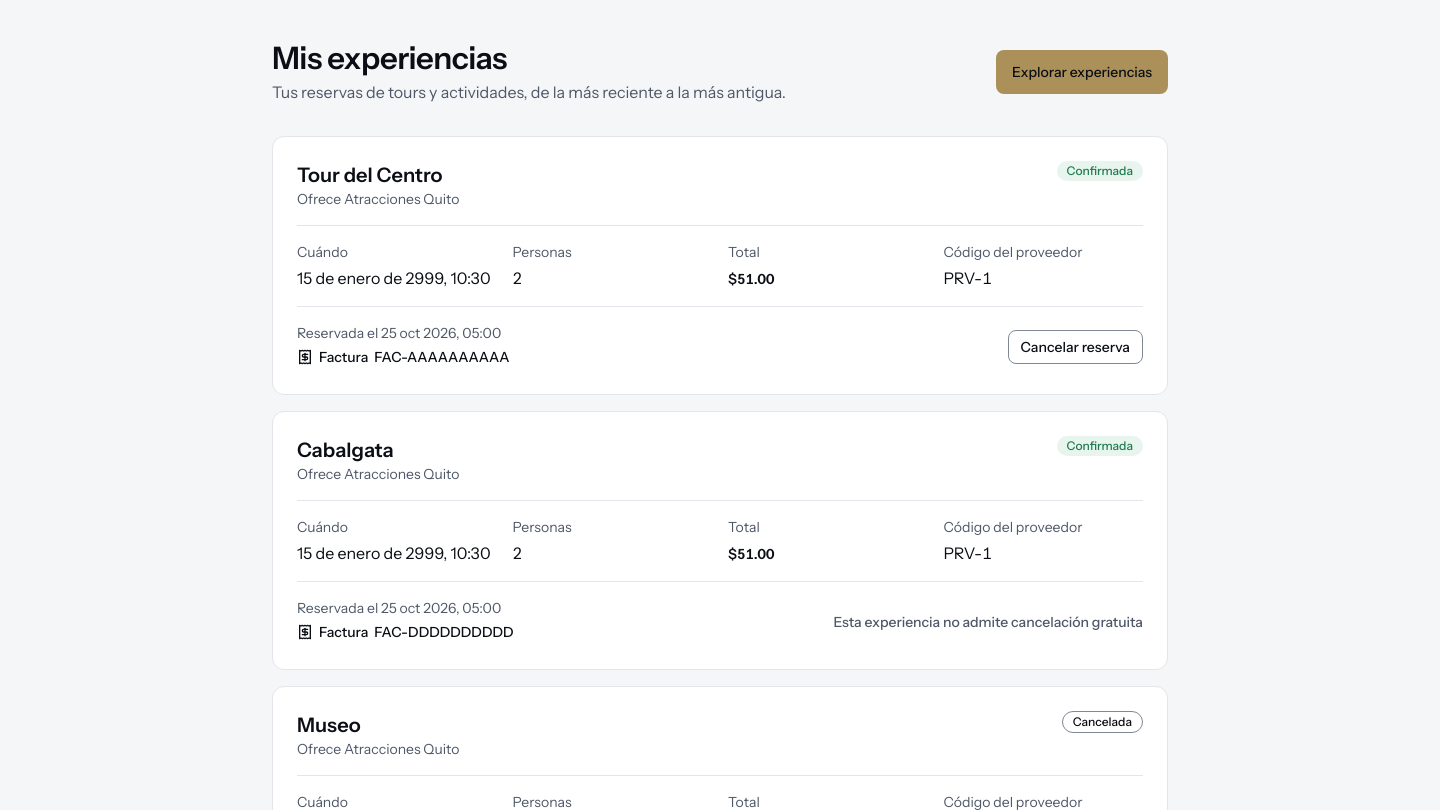
Test: MyExperiencesPage › explains EXTERNAL_RESERVATION_NOT_REFUNDABLE inside the dialog
Click the button with aria-label "Cancelar la reserva de Tour del Centro" at [1075, 346], box [1008,330,1143,364]
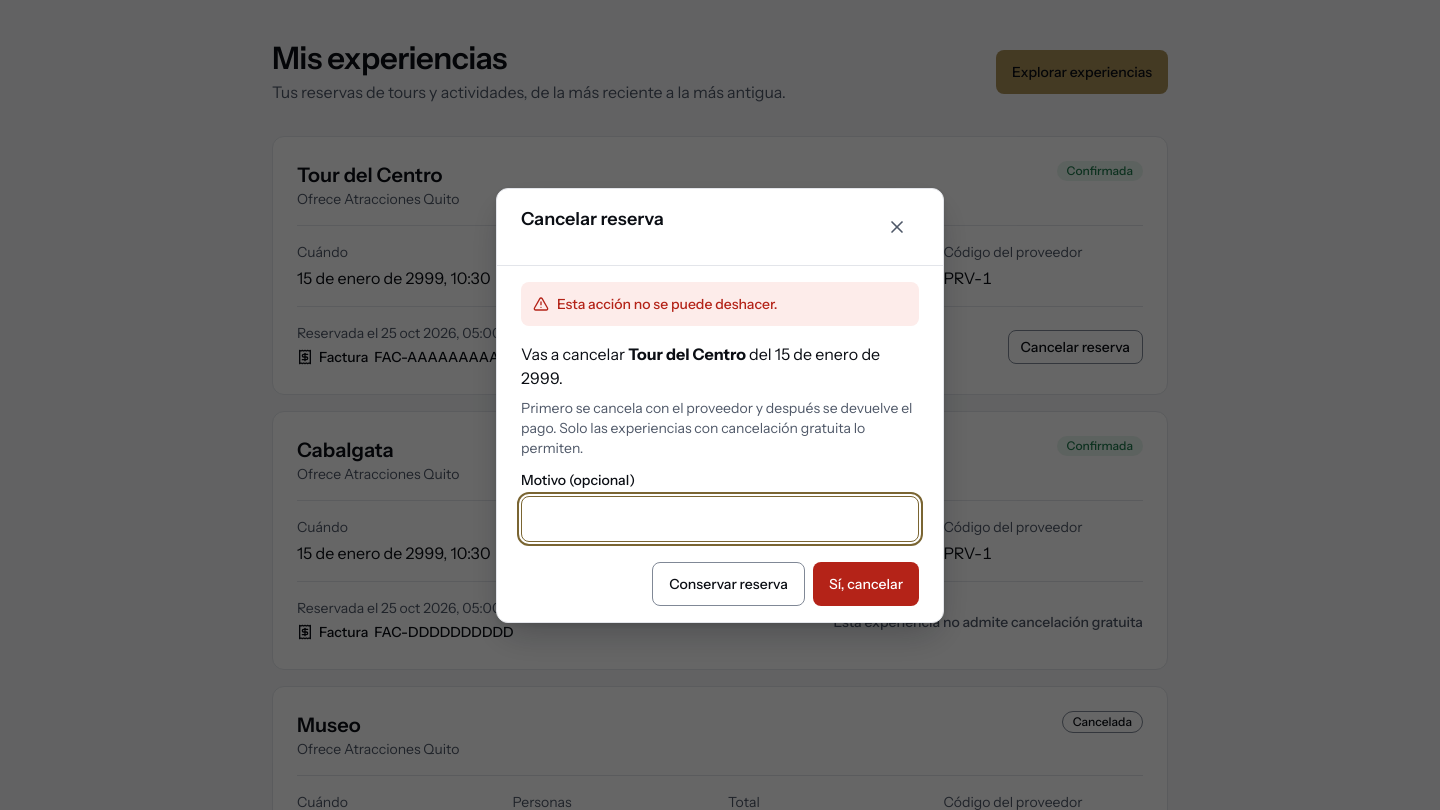
Click the button "Sí, cancelar" at [866, 584], box [813,562,919,606]
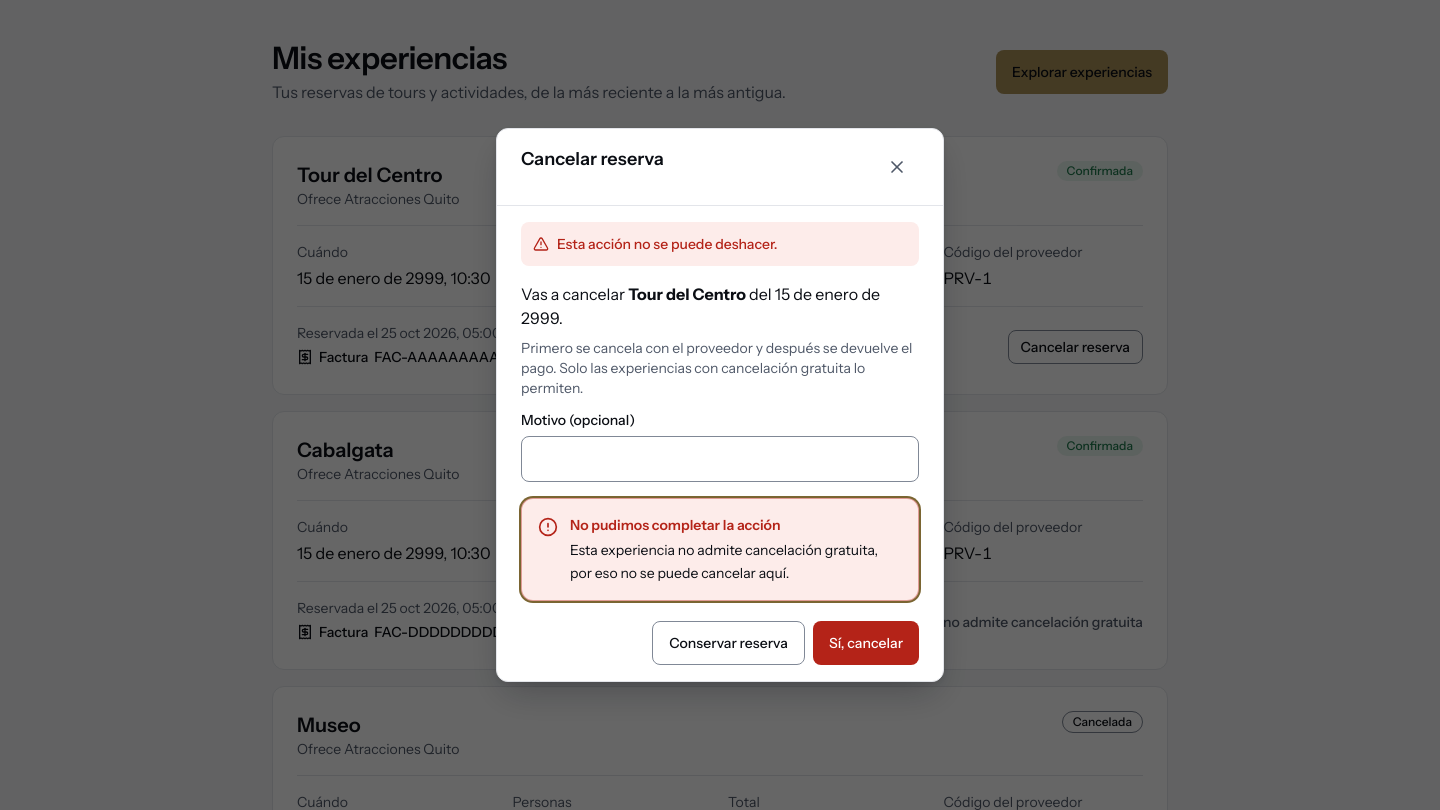
Expected: the dialog is shown, [496,128,944,682]
Expected: the text "no admite cancelación gratuita" is shown, [570,541,878,582]
